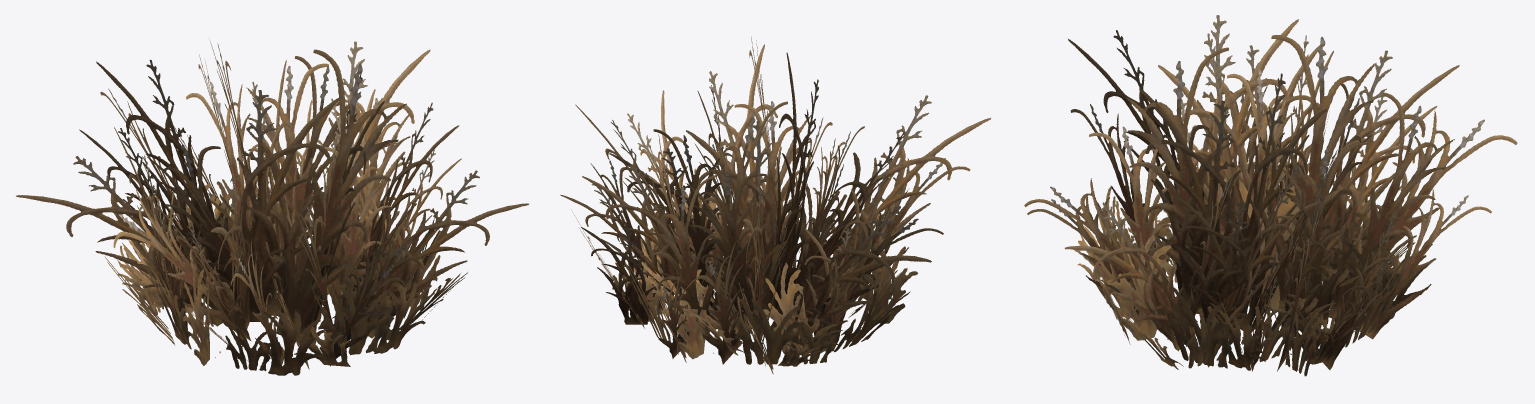
File: xsm_cao_6.FBX
3 renders of one model, left to right at view 1: azimuth 30°, elevation 25°; view 2: azimuth 150°, elevation 25°; view 3: azimuth 270°, elevation 25°, orthographic. The views are drawn at different scales.
Visible parts, largest first — view 1: xsm_cao_6; view 2: xsm_cao_6; view 3: xsm_cao_6.
Boxes of the visible parts, x1,y1,x2,y2 form: xsm_cao_6: (16, 41, 528, 375); xsm_cao_6: (560, 36, 990, 374); xsm_cao_6: (1024, 15, 1517, 376).
Size of the model in its own units: 78.03 by 53.82 by 77.25.
